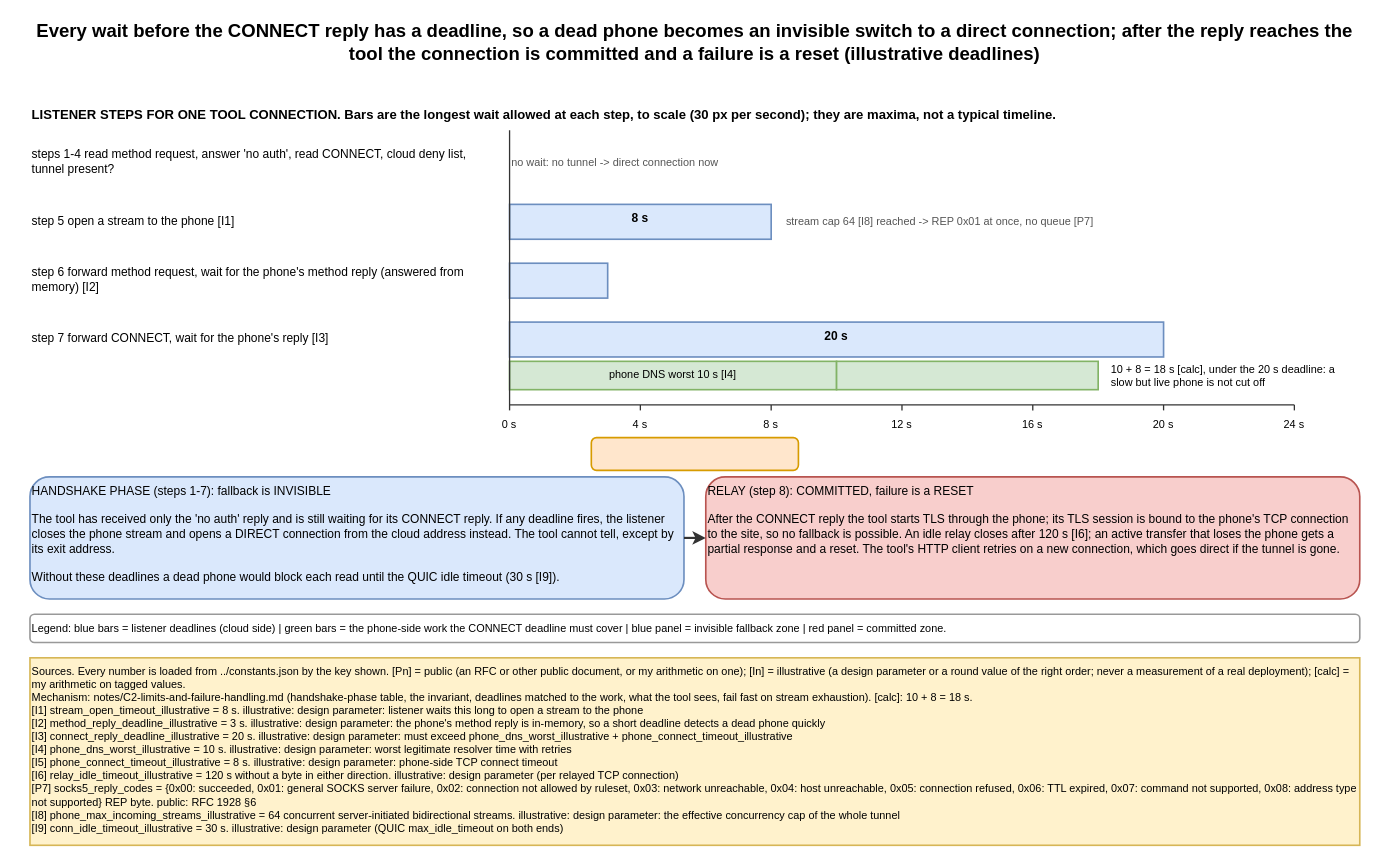
This 1389x864 diagram has some shape labels left out. Each missing label, with the centre of its shape:
"3 s" goes at point 558,280.
"COMMIT POINT: CONNECT reply sent to the tool" goes at point 694,453.
"phone TCP connect 8 s [I5]" goes at point 967,375.
